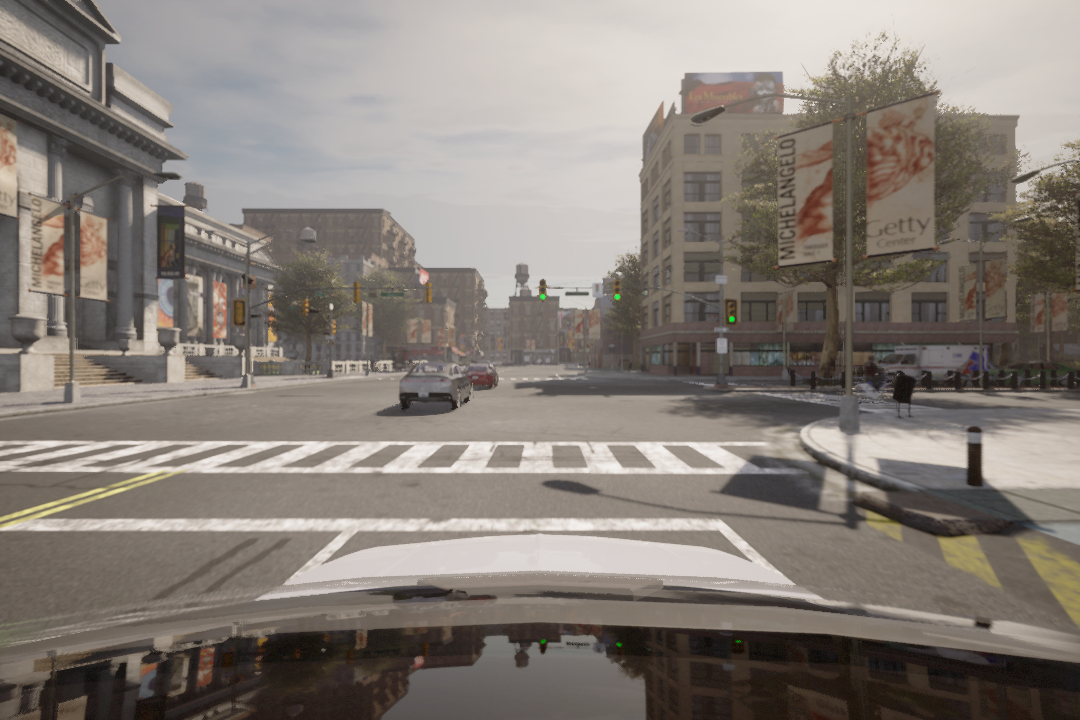TrafficLight: (724, 300, 741, 325), (613, 277, 621, 304), (540, 279, 548, 301)
walkside: (1, 438, 810, 477)
